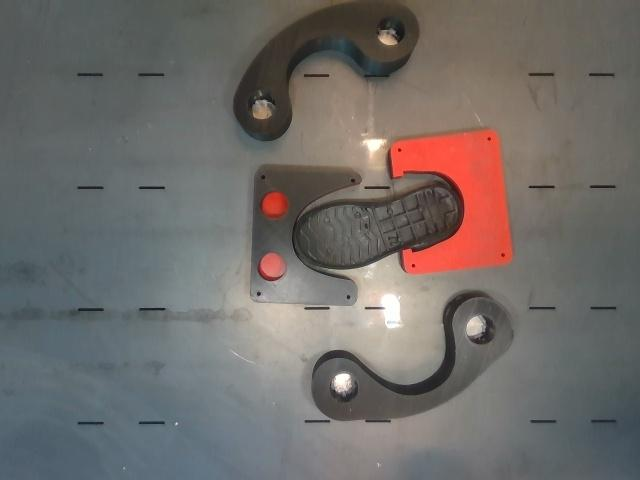shoes: (294, 186, 461, 269)
